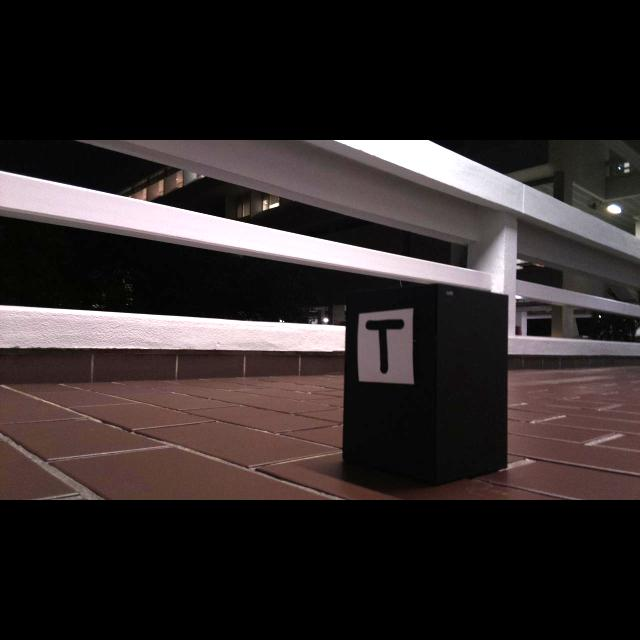T: (365, 319, 405, 375)
